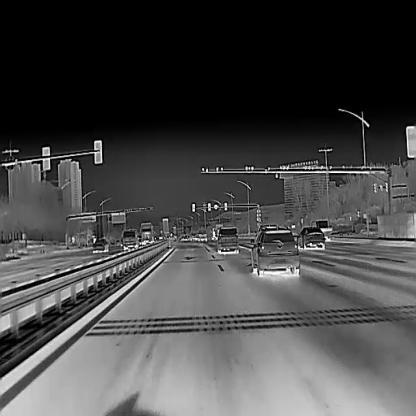car: (251, 227, 298, 274), (216, 225, 238, 254), (296, 226, 324, 248), (310, 220, 333, 242), (254, 224, 279, 243), (122, 228, 139, 249), (141, 222, 154, 244), (93, 238, 109, 251), (198, 229, 208, 241)
